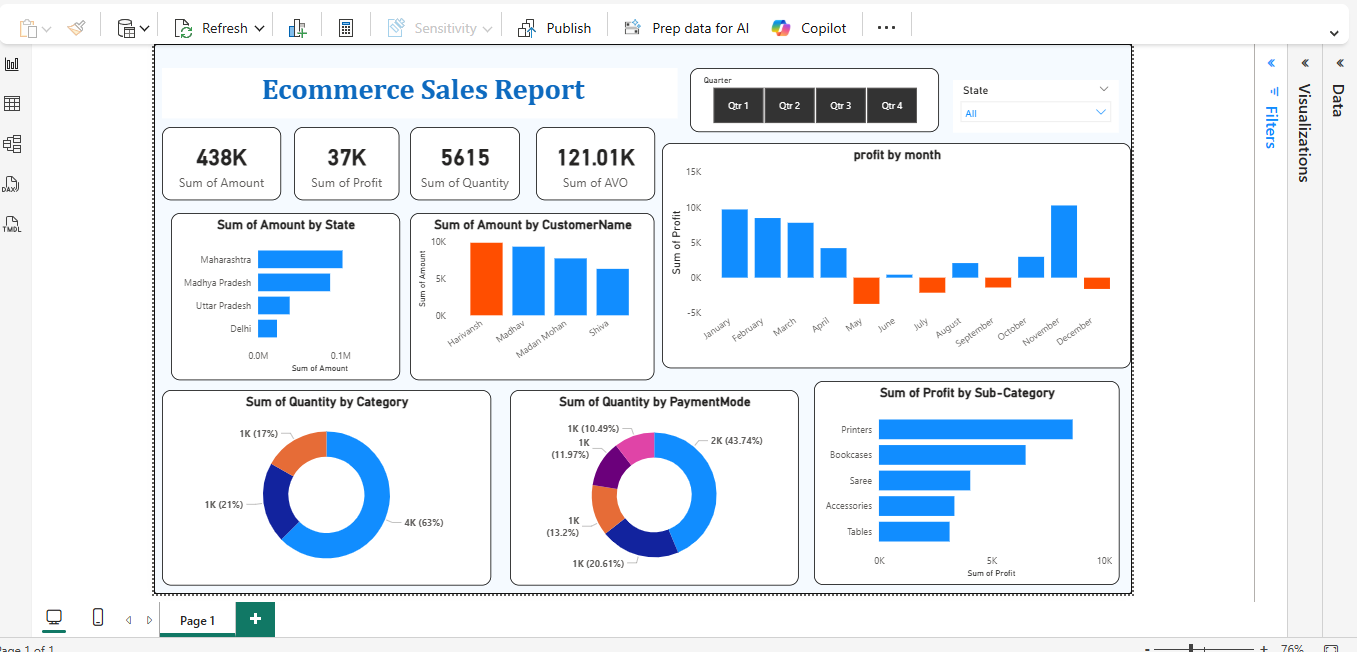

Layout of this report page (visuals, bound fields, positions):
{"tool":"powerbi","page":{"name":"ESD","canvas":[1280,720],"ordinal":0},"visuals":[{"type":"textbox","box":[10.1,31.9,675.3,65.5],"z":0},{"type":"columnChart","title":"profit by month","fields":{"Category":["Orders.Order Date.Variation.Date Hierarchy.Month"],"Y":["Sum(Details.Profit)"]},"box":[665.6,129.3,614.2,295.3],"z":1000},{"type":"clusteredBarChart","fields":{"Category":["Details.Sub-Category"],"Y":["Sum(Details.Profit)"]},"box":[864,440.8,399.7,267.4],"z":2000},{"type":"donutChart","fields":{"Category":["Details.Category"],"Y":["Sum(Details.Quantity)"]},"box":[10.3,452.6,430.5,255.7],"z":3000},{"type":"donutChart","fields":{"Y":["Sum(Details.Quantity)"],"Category":["Details.PaymentMode"]},"box":[465.8,452.6,377.6,255.7],"z":4000},{"type":"card","fields":{"Values":["Sum(Details.Amount)"]},"box":[10.3,108.7,155.8,95.5],"z":5000},{"type":"card","fields":{"Values":["Sum(Details.Quantity)"]},"box":[335,108.7,144,95.5],"z":6000},{"type":"card","fields":{"Values":["Sum(Details.Profit)"]},"box":[183.7,108.7,138.1,95.5],"z":7000},{"type":"card","fields":{"Values":["Sum(Details.AVO)"]},"box":[499.6,108.7,155.8,95.5],"z":8000},{"type":"clusteredBarChart","fields":{"Category":["Orders.State"],"Y":["Sum(Details.Amount)"]},"box":[22,221.9,299.8,218.9],"z":9000},{"type":"columnChart","fields":{"Category":["Orders.CustomerName"],"Y":["Sum(Details.Amount)"]},"box":[335,221.9,320.3,218.9],"z":10000},{"type":"slicer","fields":{"Values":["Orders.State"]},"box":[1046.5,47,216.7,68.9],"z":11000},{"type":"slicer","fields":{"Values":["Orders.Order Date.Variation.Date Hierarchy.Quarter"]},"box":[702.2,31.9,325.9,84],"z":12000}]}

Visuals, with their boxes on the page's 1280x720 design canvas (x1, y1, x2, y2). These are canvas units, not pixel positions in the 1357x652 screenshot, which may show the page scaled, cropped or inside an application window:
textbox: <box>10,32,685,97</box>
"profit by month" columnChart: <box>666,129,1280,425</box>
clusteredBarChart - Details.Sub-Category x Sum(Details.Profit): <box>864,441,1264,708</box>
donutChart - Details.Category x Sum(Details.Quantity): <box>10,453,441,708</box>
donutChart - Sum(Details.Quantity) x Details.PaymentMode: <box>466,453,843,708</box>
card - Sum(Details.Amount): <box>10,109,166,204</box>
card - Sum(Details.Quantity): <box>335,109,479,204</box>
card - Sum(Details.Profit): <box>184,109,322,204</box>
card - Sum(Details.AVO): <box>500,109,655,204</box>
clusteredBarChart - Orders.State x Sum(Details.Amount): <box>22,222,322,441</box>
columnChart - Orders.CustomerName x Sum(Details.Amount): <box>335,222,655,441</box>
slicer - Orders.State: <box>1046,47,1263,116</box>
slicer - Orders.Order Date.Variation.Date Hierarchy.Quarter: <box>702,32,1028,116</box>
